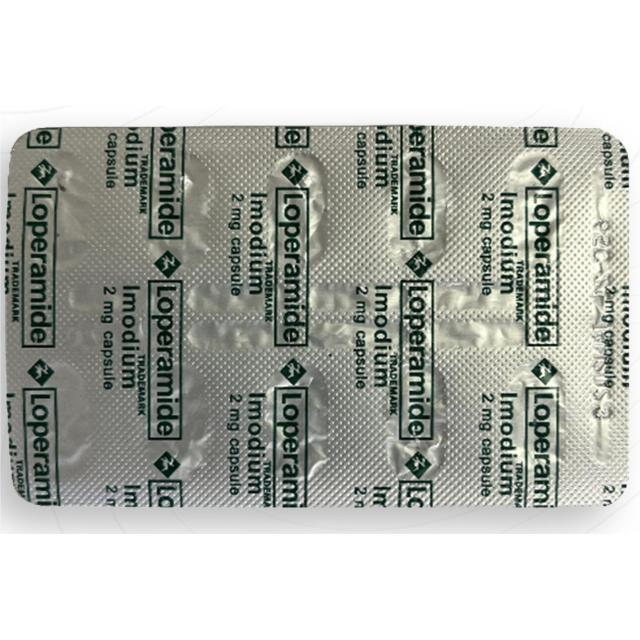blister: (4, 121, 632, 511)
